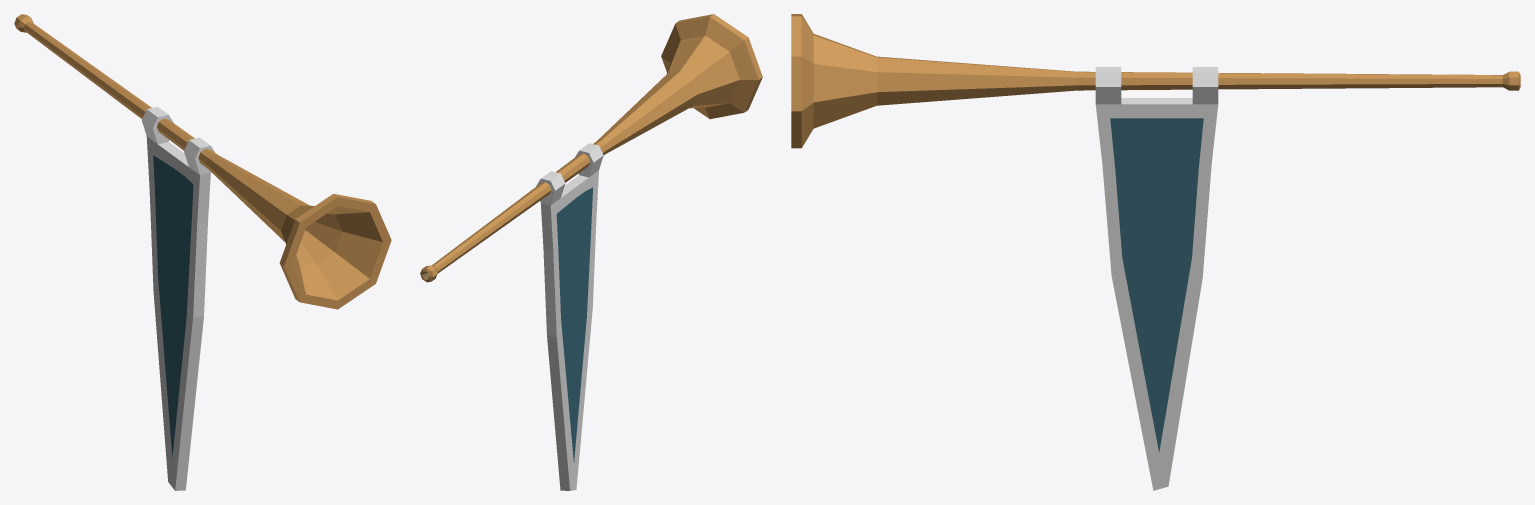
The model's file is kingdom_SM_Prop_Coach_Horn_02.gltf.
3 renders of one model, left to right at view 1: azimuth 30°, elevation 25°; view 2: azimuth 150°, elevation 25°; view 3: azimuth 270°, elevation 25°, orthographic. The views are drawn at different scales.
Visible parts, largest first — view 1: SM_Prop_Coach_Horn_02; view 2: SM_Prop_Coach_Horn_02; view 3: SM_Prop_Coach_Horn_02.
Part boxes in pixels (box(x1,y1,x2,y2)): SM_Prop_Coach_Horn_02: box(14, 14, 391, 490); SM_Prop_Coach_Horn_02: box(420, 14, 762, 490); SM_Prop_Coach_Horn_02: box(791, 14, 1520, 490).
Bounding box in the file's own units: 0.2715 × 0.9884 × 1.39.
Materials: 1 (1 with a texture image).
